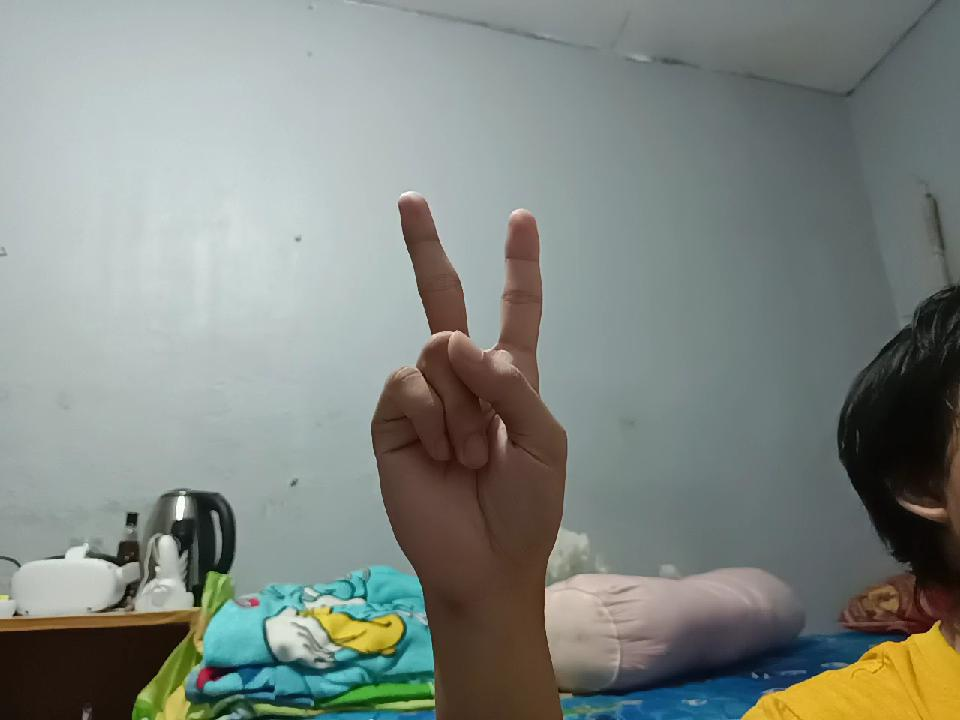scissors: (378, 176, 562, 612)
